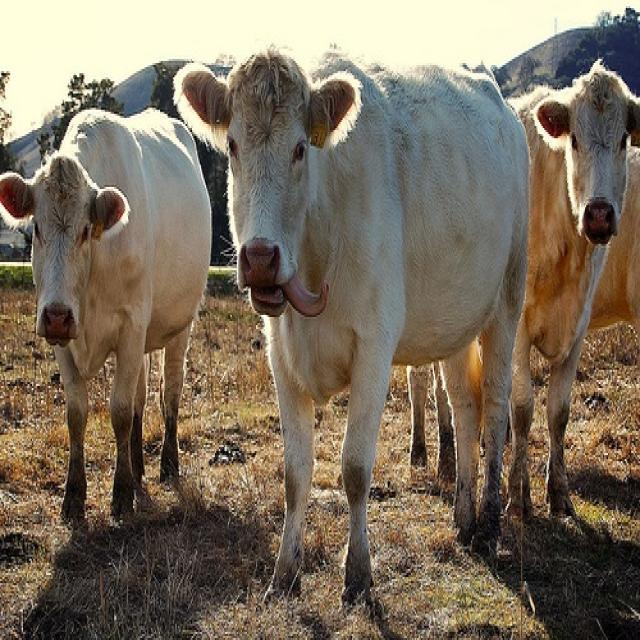cow: (175, 50, 532, 604), (409, 60, 640, 529), (1, 107, 212, 527)
